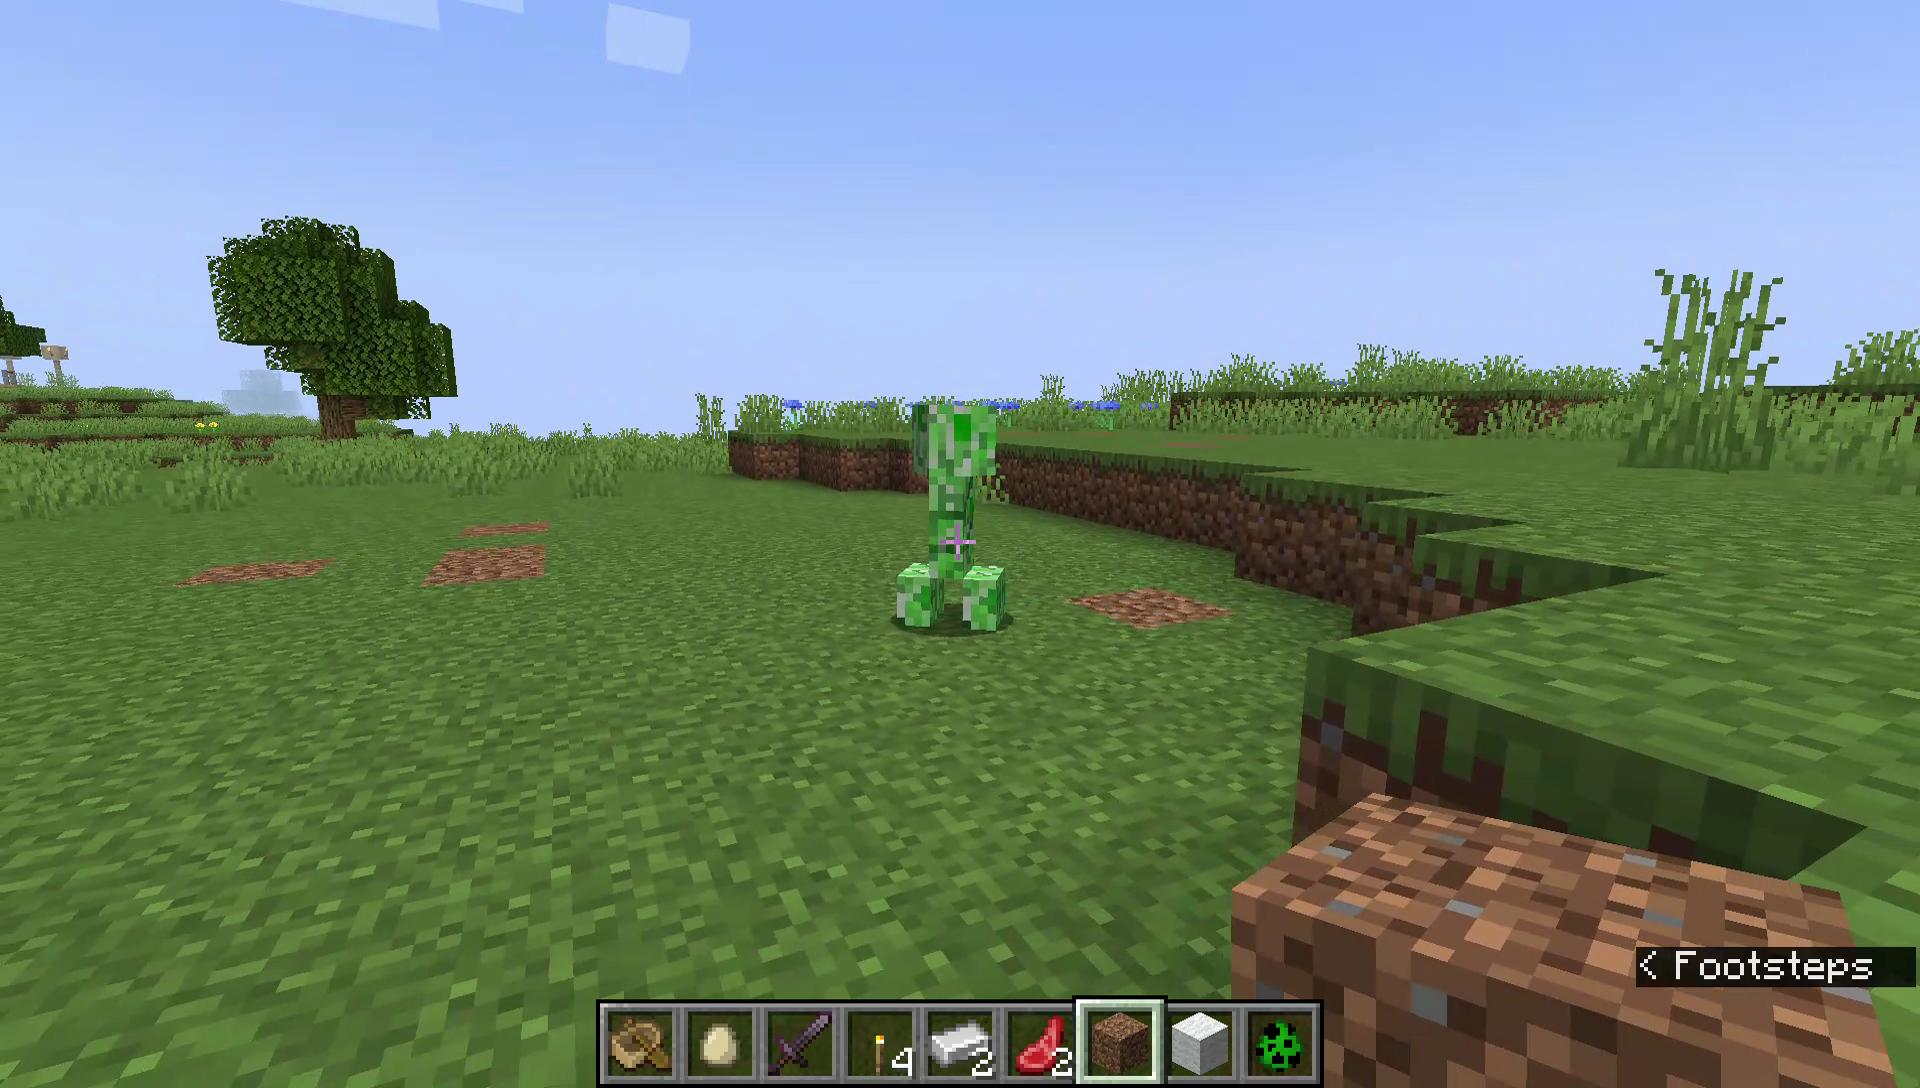creeper: (893, 400, 1011, 636)
